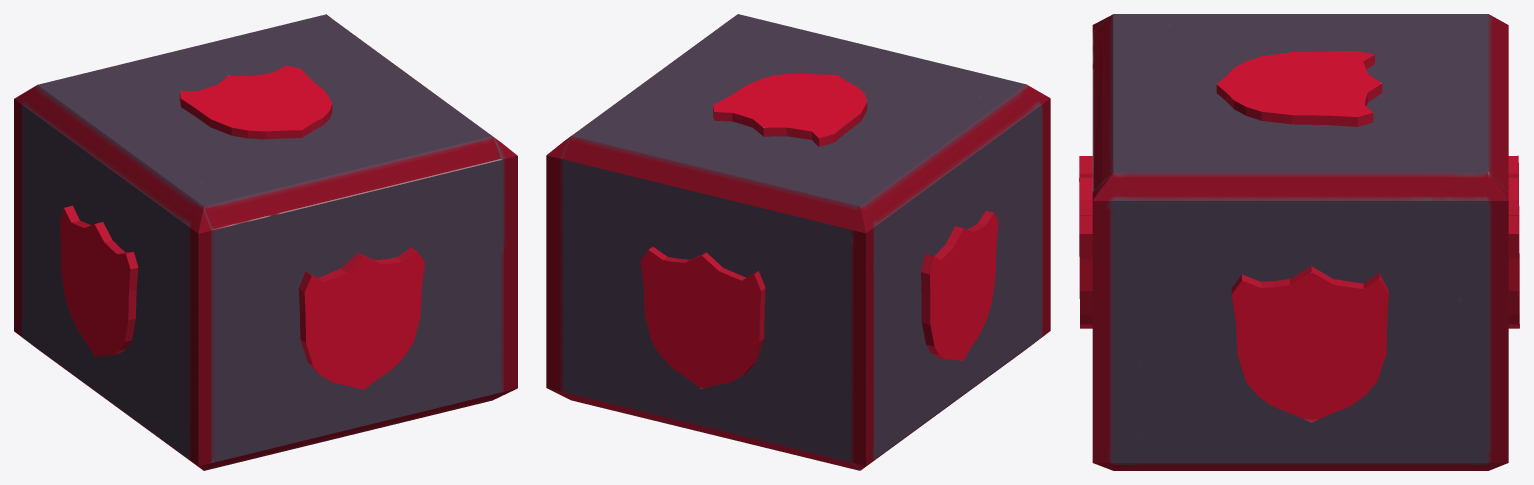
Rendered from armor pick up af.fbx.
The picture shows the model from 3 angles, left to right: view 1: azimuth 30°, elevation 25°; view 2: azimuth 150°, elevation 25°; view 3: azimuth 270°, elevation 25°; orthographic projection. The views are drawn at different scales.
Parts seen in each view (by area): view 1: polySurface12; view 2: polySurface12; view 3: polySurface12.
Part boxes in pixels (x1=…): polySurface12: x1=14, y1=14, x2=517, y2=470; polySurface12: x1=546, y1=14, x2=1050, y2=470; polySurface12: x1=1079, y1=14, x2=1519, y2=470.
Size of the model in its own units: 26.64 by 20.43 by 26.49.
1 material, 1 textured.
